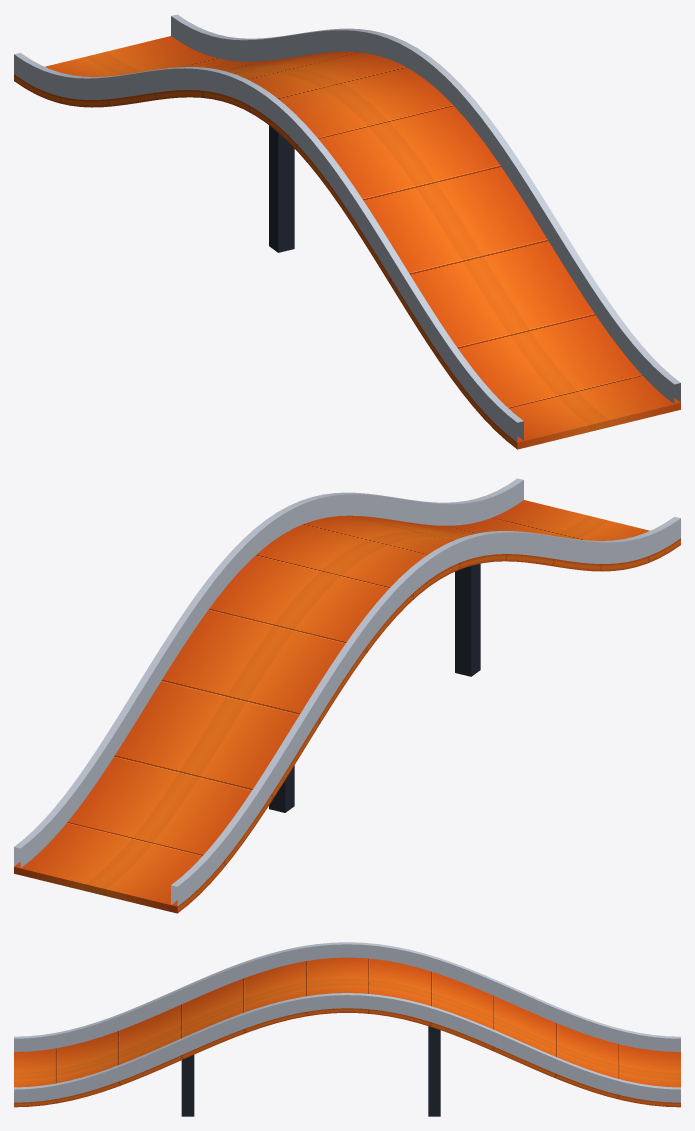
Rendered from hill-crest-2.5.glb.
3 renders of one model, top to bottom at view 1: azimuth 30°, elevation 25°; view 2: azimuth 150°, elevation 25°; view 3: azimuth 270°, elevation 25°, orthographic. The views are drawn at different scales.
Bounding box in the file's own units: 3 × 3.85 × 16.
Materials: 3 (1 with a texture image).
